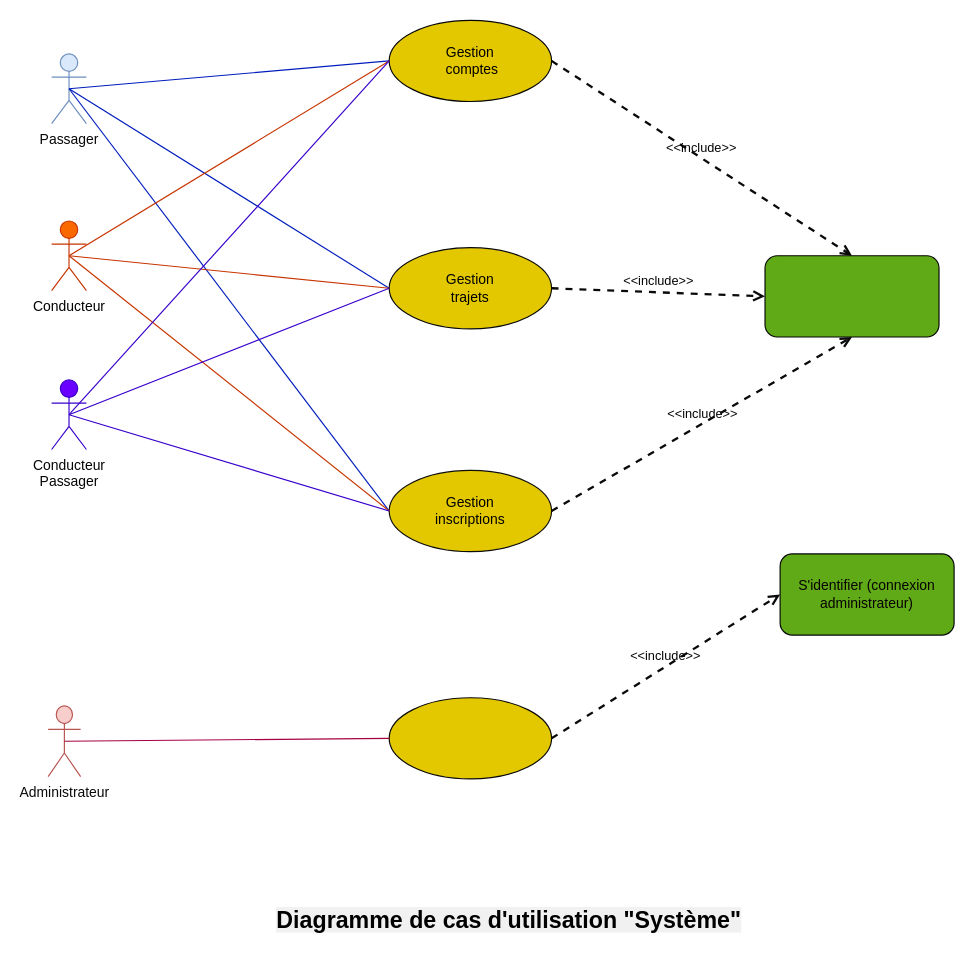
Some shapes in this 974 by 963 pixel diagram are drawn without their labels. The centre of each missing label's shape, as x and y in pixels:
Espace admin: (470,738)
S'identifier (connexion membres): (851,296)
